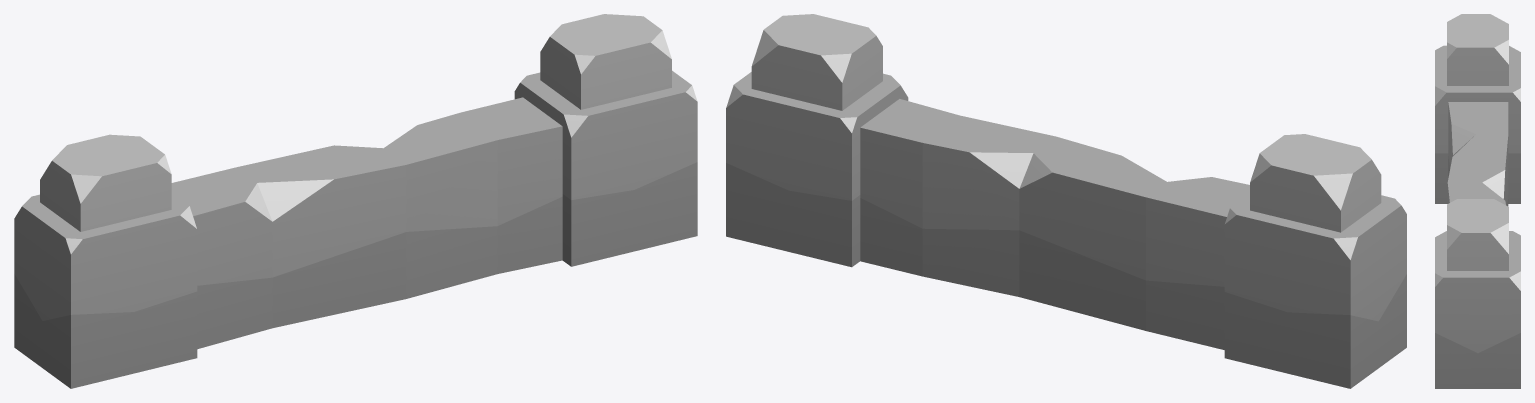
Rendered from stone-fence-small.glb.
3 views of the same model, side by side, from view 1: azimuth 30°, elevation 25°; view 2: azimuth 150°, elevation 25°; view 3: azimuth 270°, elevation 25° (orthographic). The views are drawn at different scales.
Visible parts, largest first — view 1: stone fence small; view 2: stone fence small; view 3: stone fence small.
Boxes of the visible parts, x1,y1,x2,y2 form: stone fence small: (14, 14, 697, 388); stone fence small: (726, 14, 1406, 388); stone fence small: (1435, 14, 1520, 388).
Bounding box in the file's own units: 6.14 × 1.85 × 0.9603.
1 material, 1 textured.
